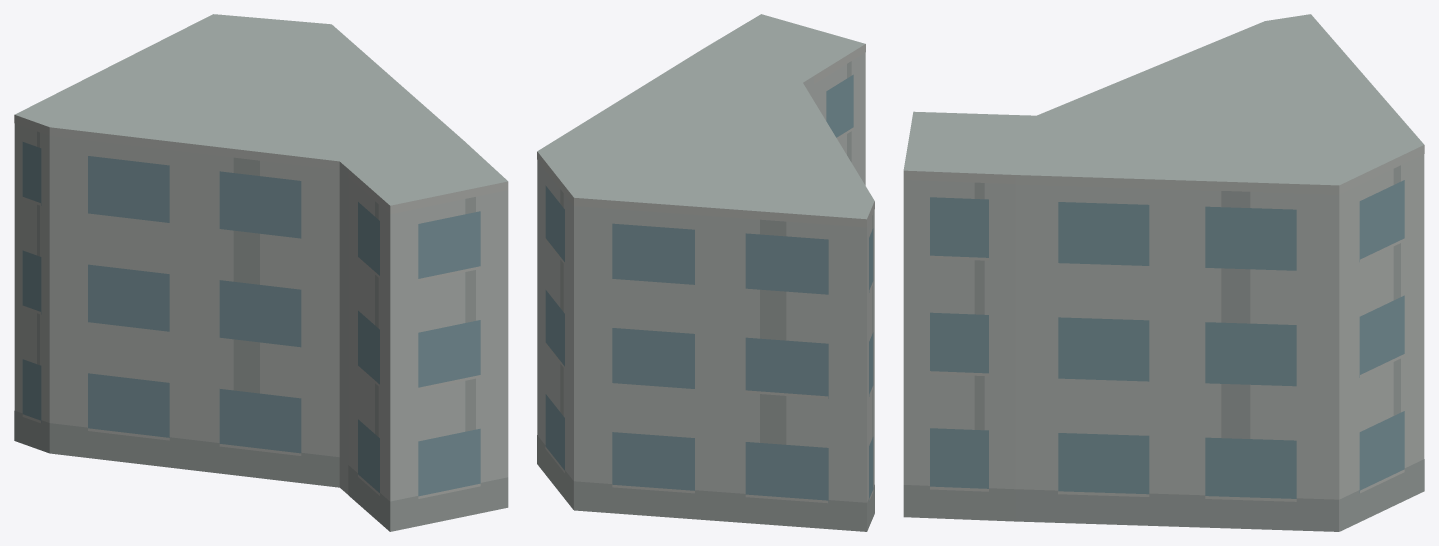
Rendered from residential-21da1bb2-b7d3-4048-a0ff-6ae92a2b6282.glb.
3 views of the same model, side by side, from view 1: azimuth 30°, elevation 25°; view 2: azimuth 150°, elevation 25°; view 3: azimuth 270°, elevation 25° (orthographic). The views are drawn at different scales.
Parts seen in each view (by area): view 1: residential-21da1bb2-b7d3-4048-a0ff-6ae92a2b6282.tmp; view 2: residential-21da1bb2-b7d3-4048-a0ff-6ae92a2b6282.tmp; view 3: residential-21da1bb2-b7d3-4048-a0ff-6ae92a2b6282.tmp.
Part boxes in pixels (x1,y1,x2,y2): residential-21da1bb2-b7d3-4048-a0ff-6ae92a2b6282.tmp: (14, 14, 508, 531); residential-21da1bb2-b7d3-4048-a0ff-6ae92a2b6282.tmp: (537, 14, 874, 531); residential-21da1bb2-b7d3-4048-a0ff-6ae92a2b6282.tmp: (903, 14, 1424, 531).
Size of the model in its own units: 9.72 by 9.15 by 12.48.
